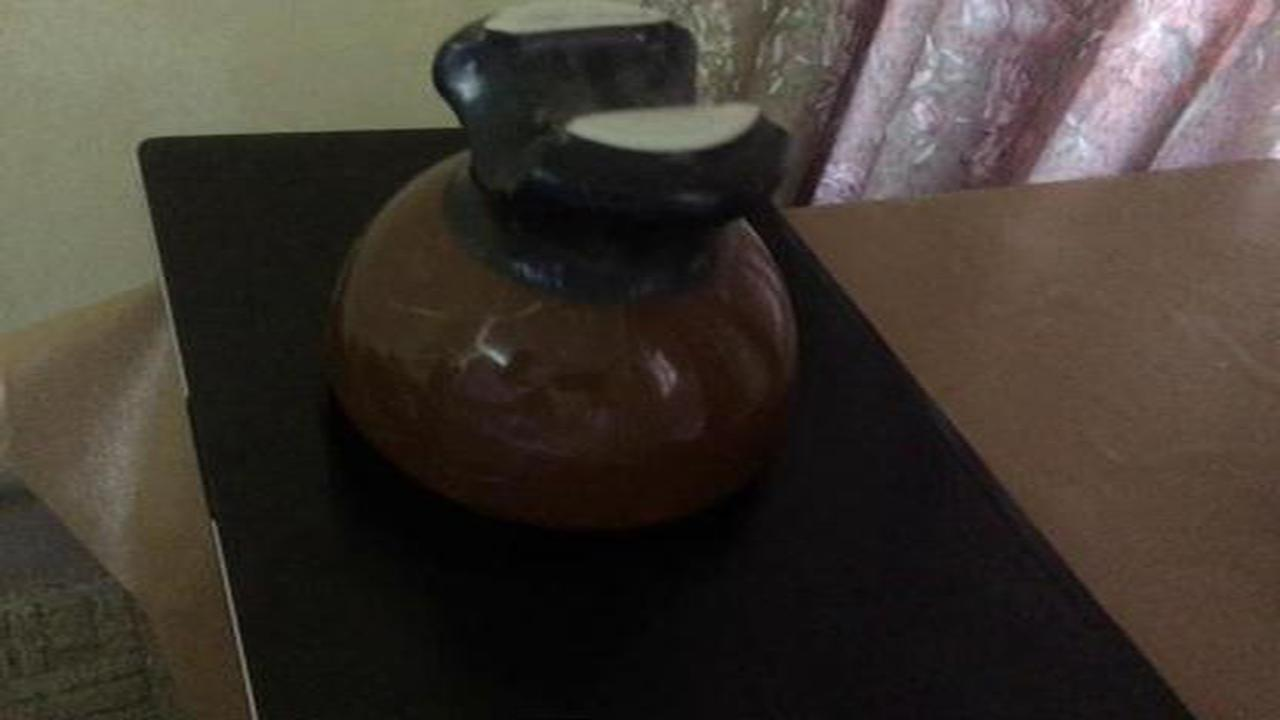insulator_pin: (299, 11, 837, 563)
